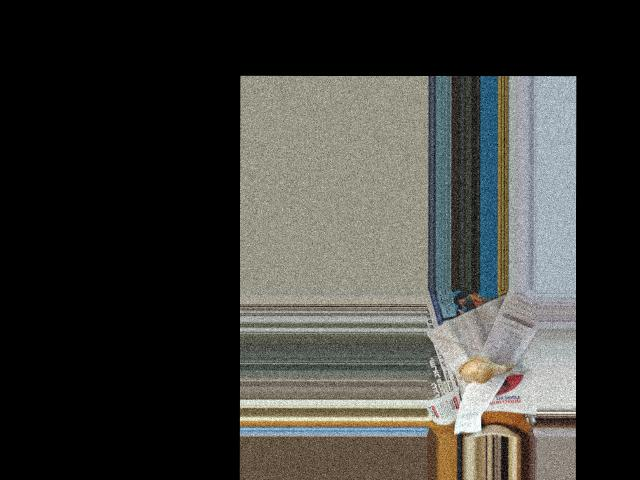onion: (461, 354, 505, 383)
